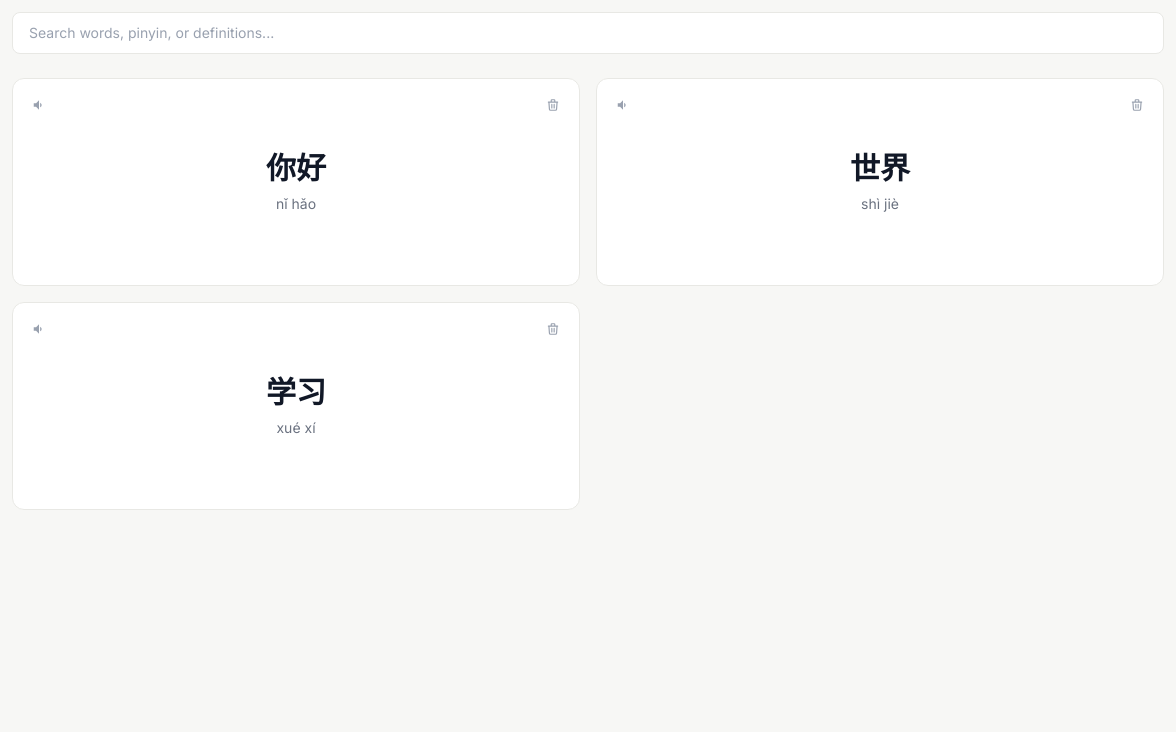
FlashcardBrowse › delete button first click shows confirmation state
The image size is (1176, 732).
Click the 1st button named "Delete card" at (553, 105), box [539, 91, 567, 119]
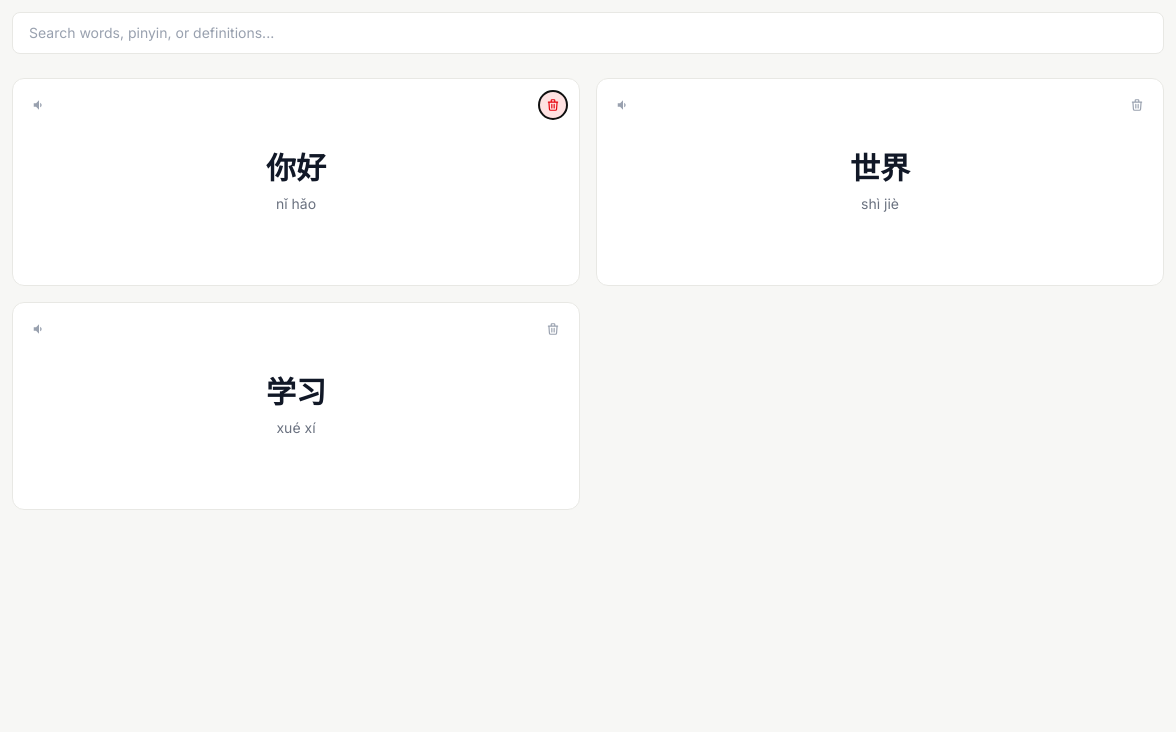
Check: the button named "Confirm delete" is shown, box [539, 91, 567, 119]
